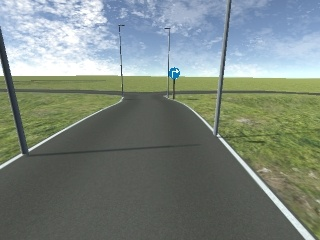TRight: (166, 66, 181, 81)
